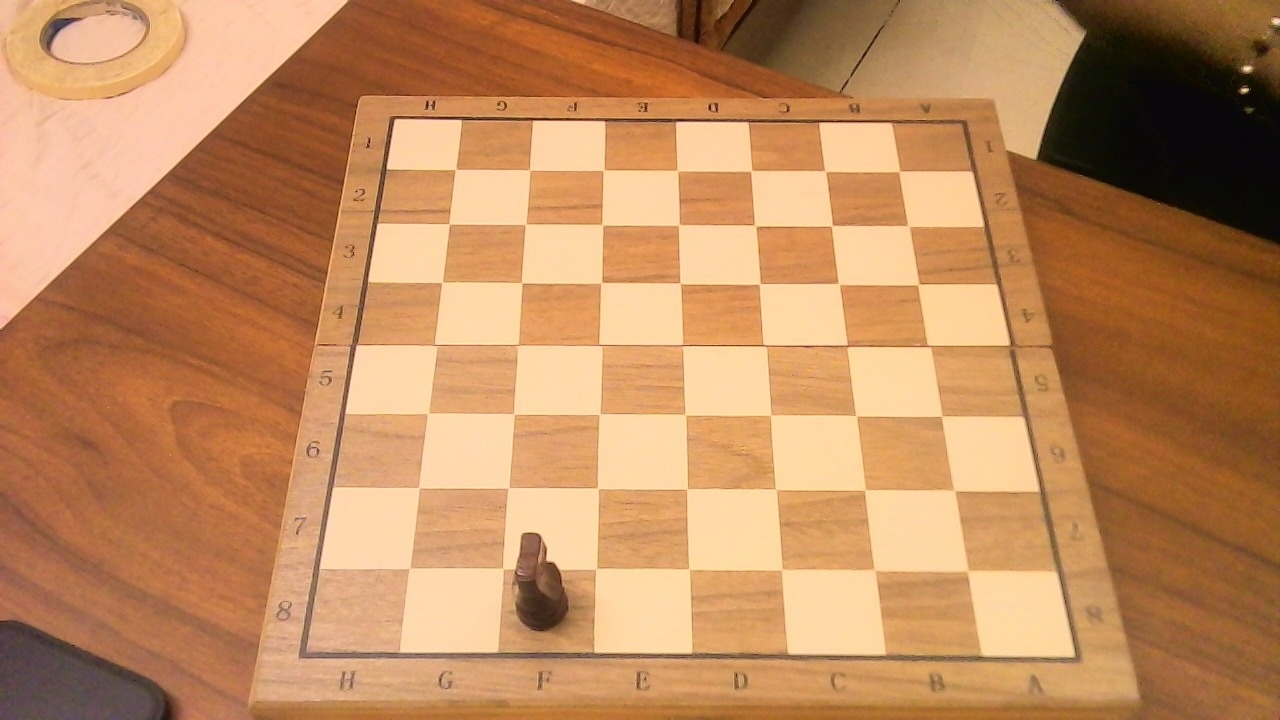n: (505, 534, 579, 633)
